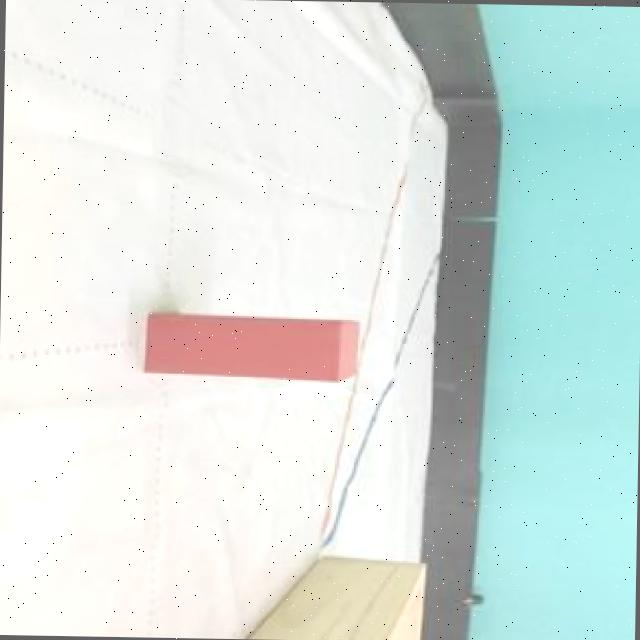redbox: (142, 315, 362, 378)
